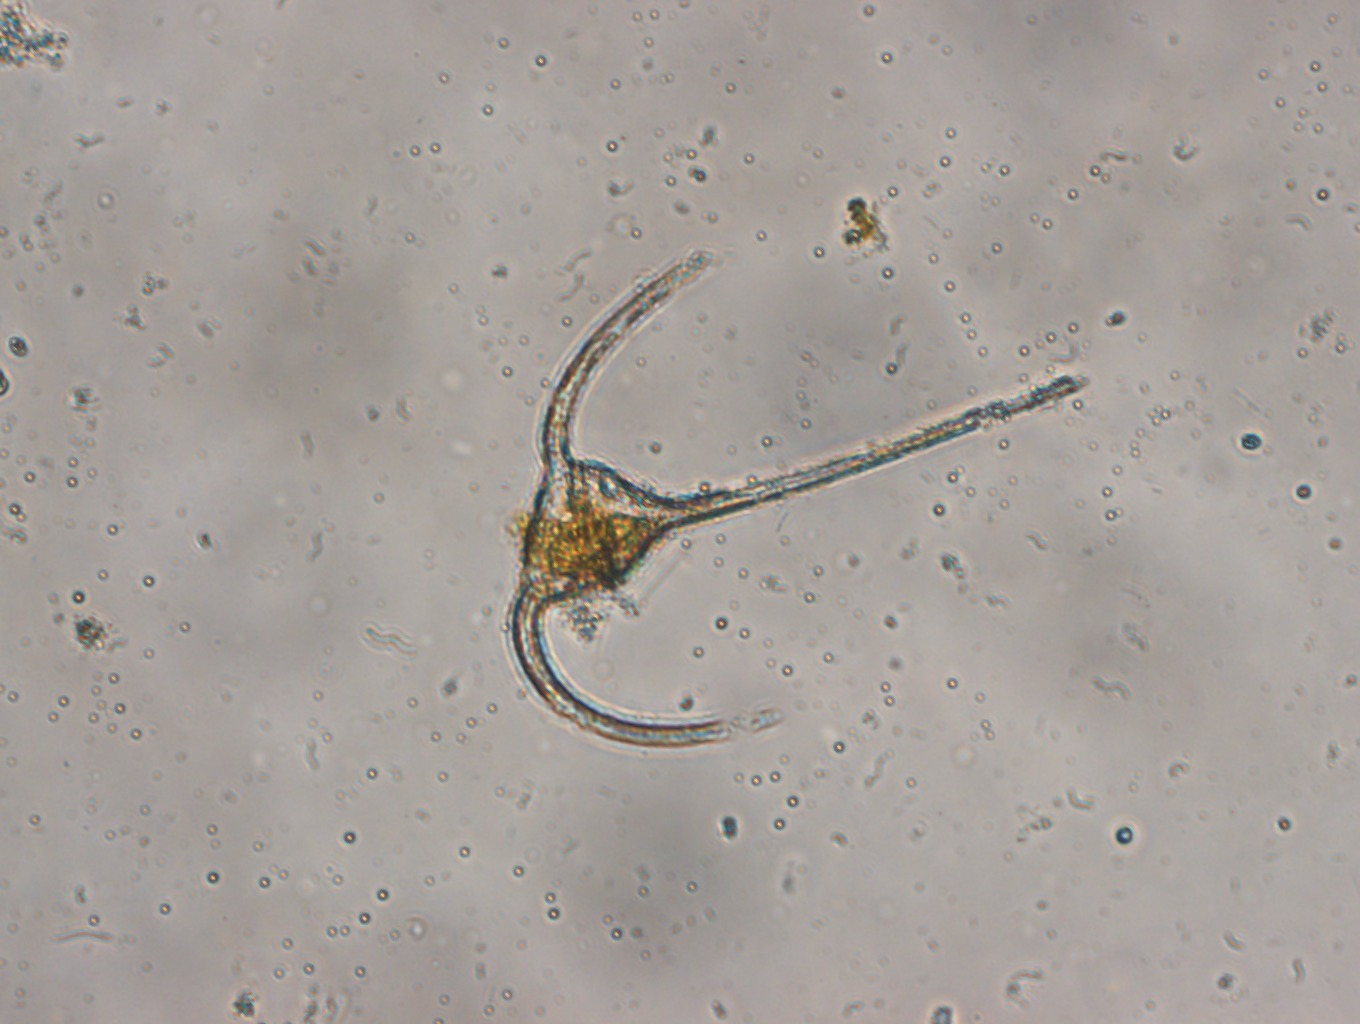ceratium trichoceros: (490, 209, 1096, 756)
